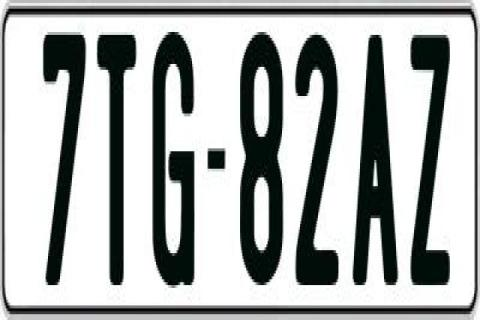0: (236, 29, 282, 291), (44, 32, 92, 282), (292, 35, 334, 288)
A: (349, 29, 396, 282)
G: (152, 26, 199, 291)
T: (96, 29, 140, 282)
Z: (406, 32, 450, 300)
